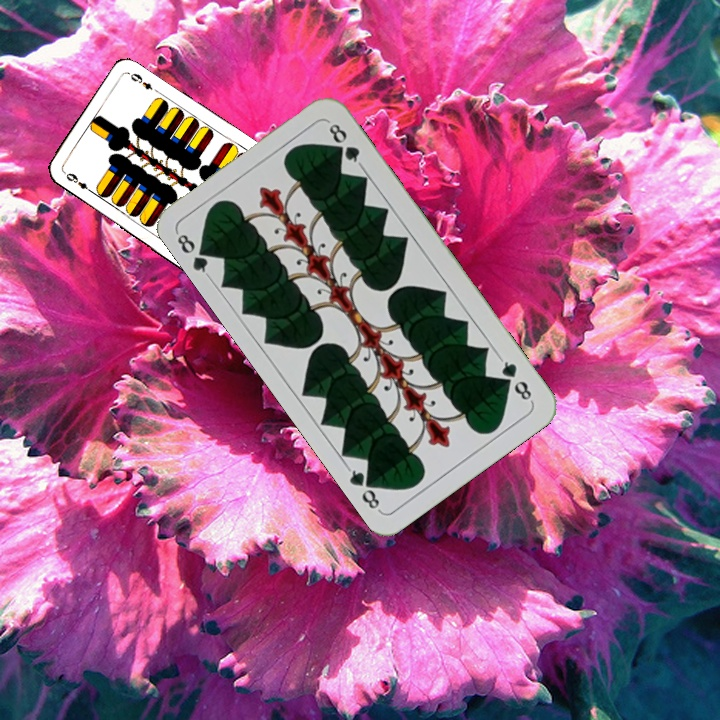E9: (60, 168, 96, 196)
G8: (172, 229, 215, 280), (495, 353, 535, 405)
